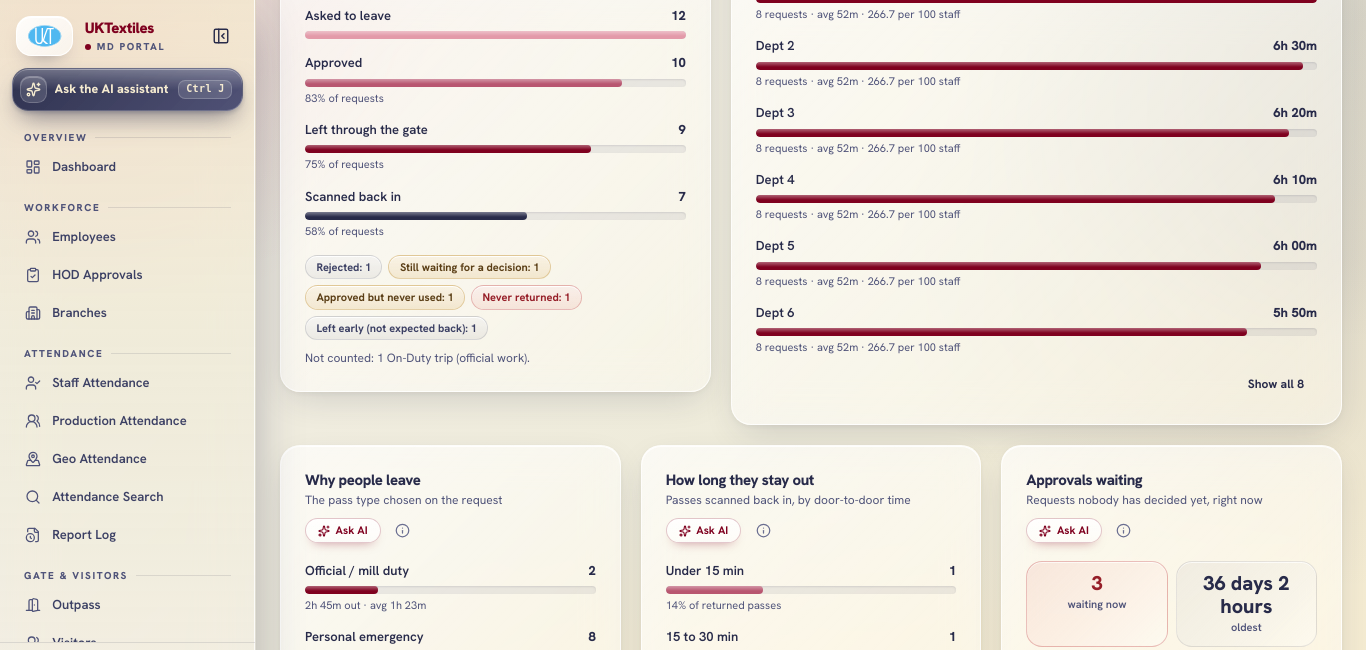
Outpass & Visitors page › lets the MD see every department, not just the first few
The width and height of the screenshot is (1366, 650).
(page scrolled)
Click the button with test id "md-outpass-show-all": (1276, 384) [1235,368,1317,400]
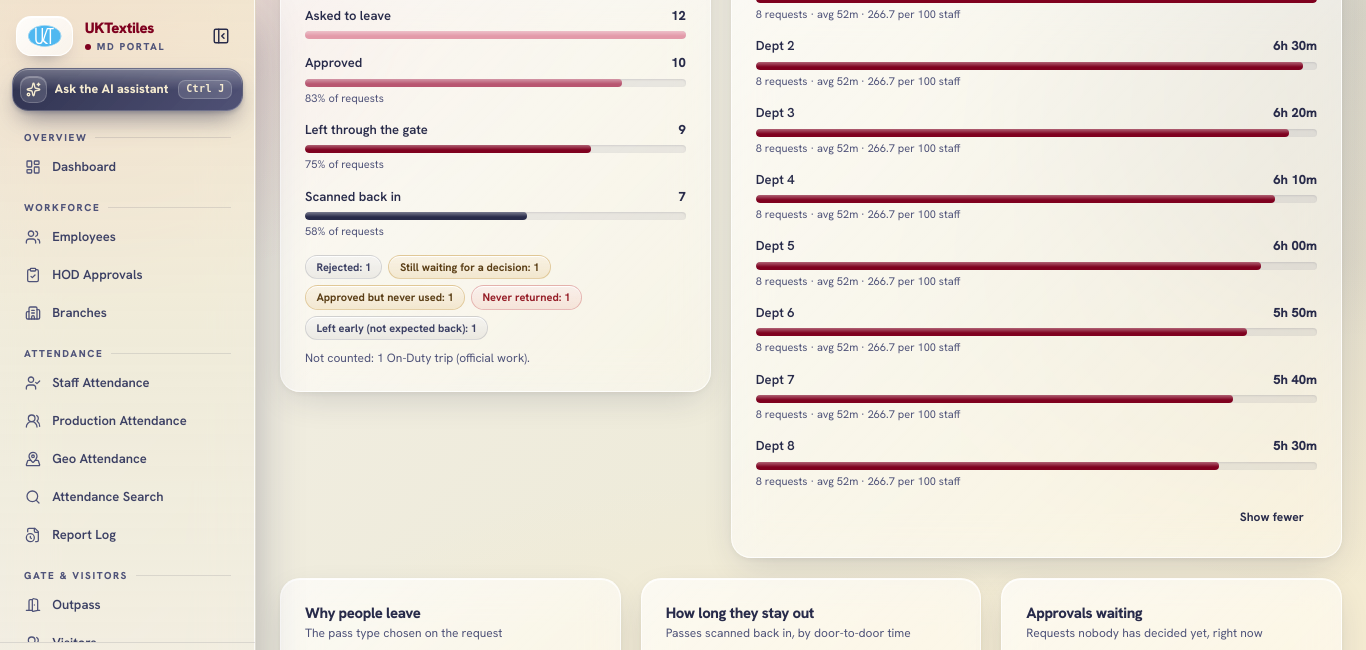
Result: the button with test id "md-outpass-show-all" reads "Show fewer" at [1227,501,1317,533]
